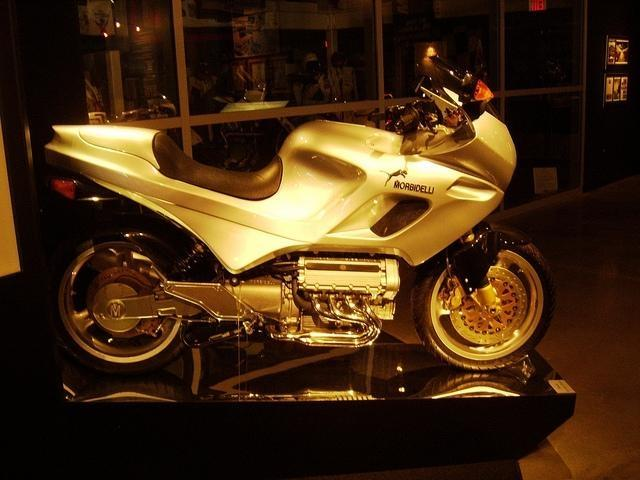motorcycle: (44, 52, 556, 374)
